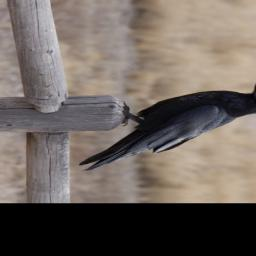Crow: (68, 82, 256, 173)
